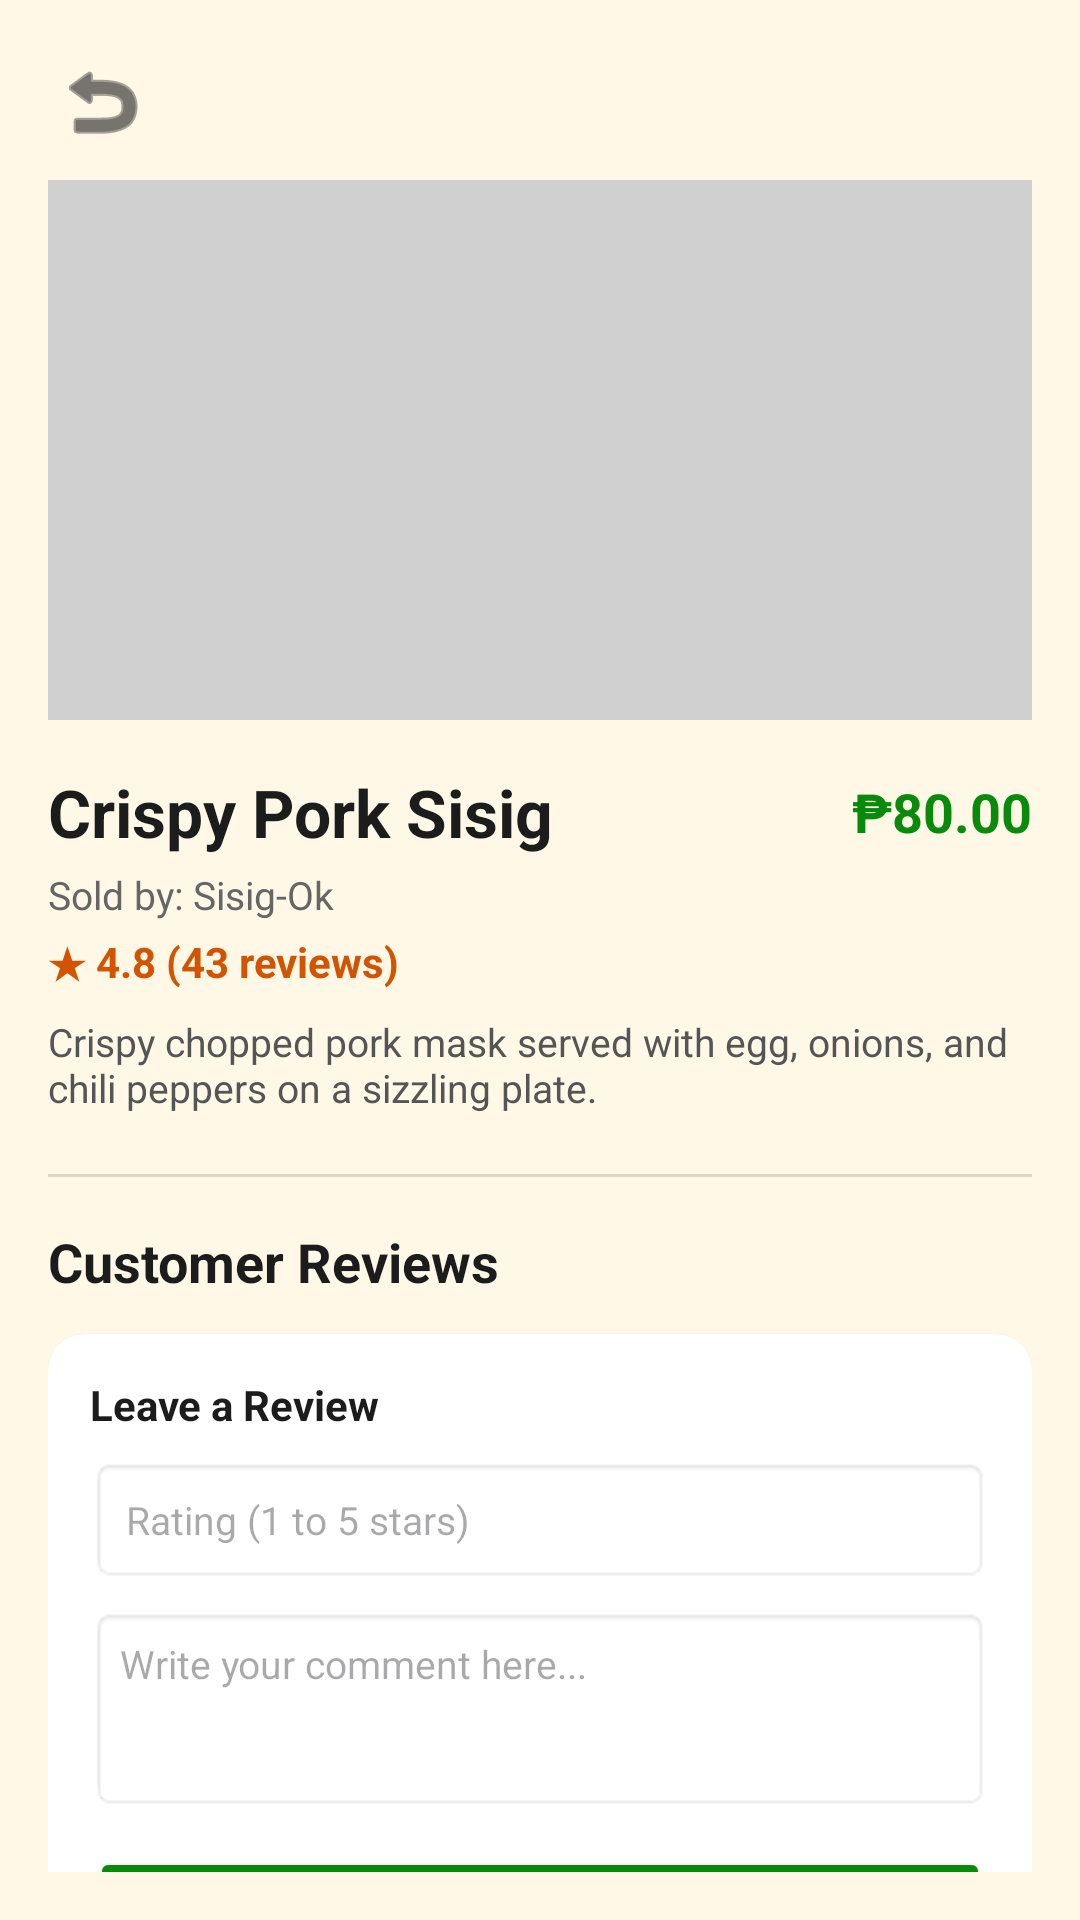

Icons on this 1080x1920 Android screen, each with the point to tap as (x=x, y=y):
Back: (x=103, y=102)
